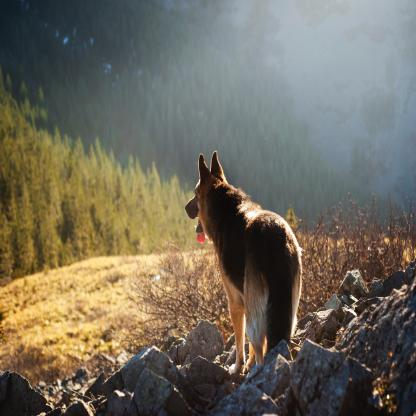german shepherd: (188, 152, 305, 368)
